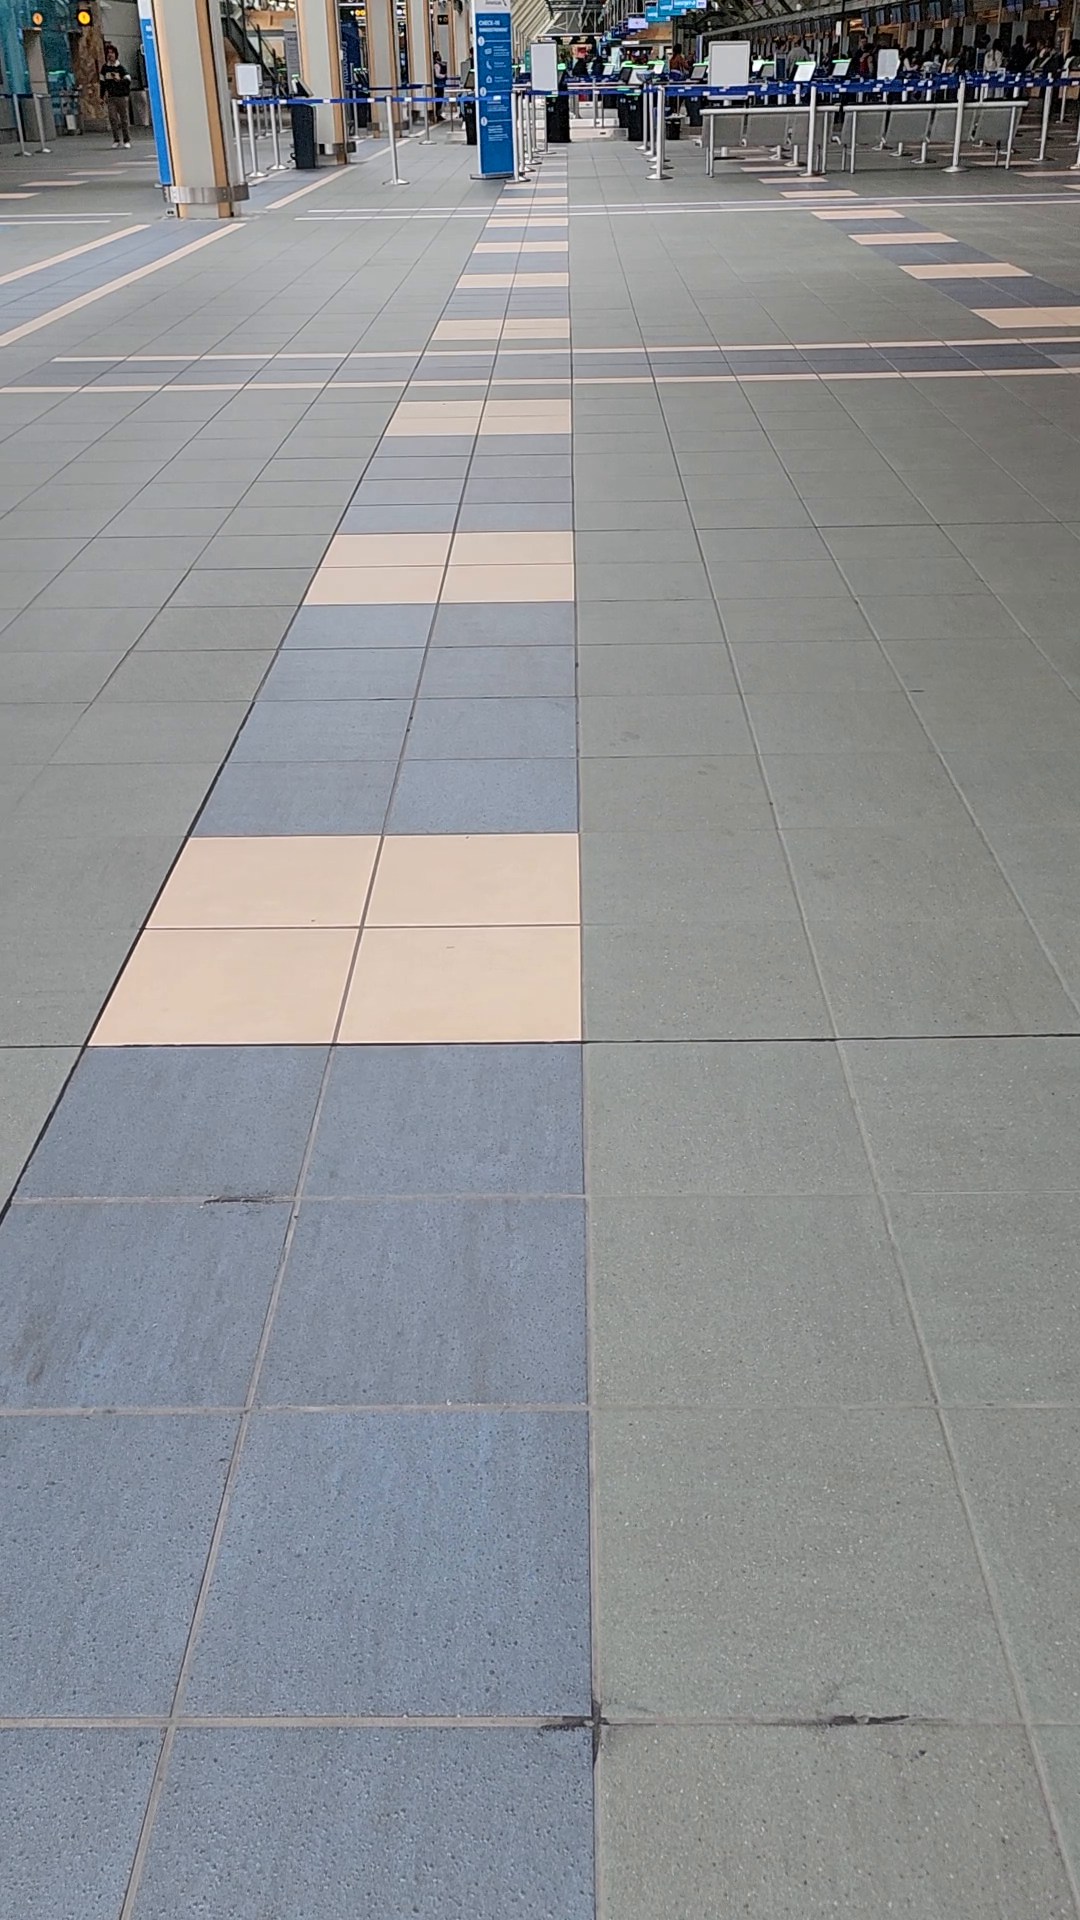Stain: (3, 1232, 127, 1393), (535, 1683, 641, 1764), (825, 1698, 931, 1749), (196, 1174, 285, 1222)
